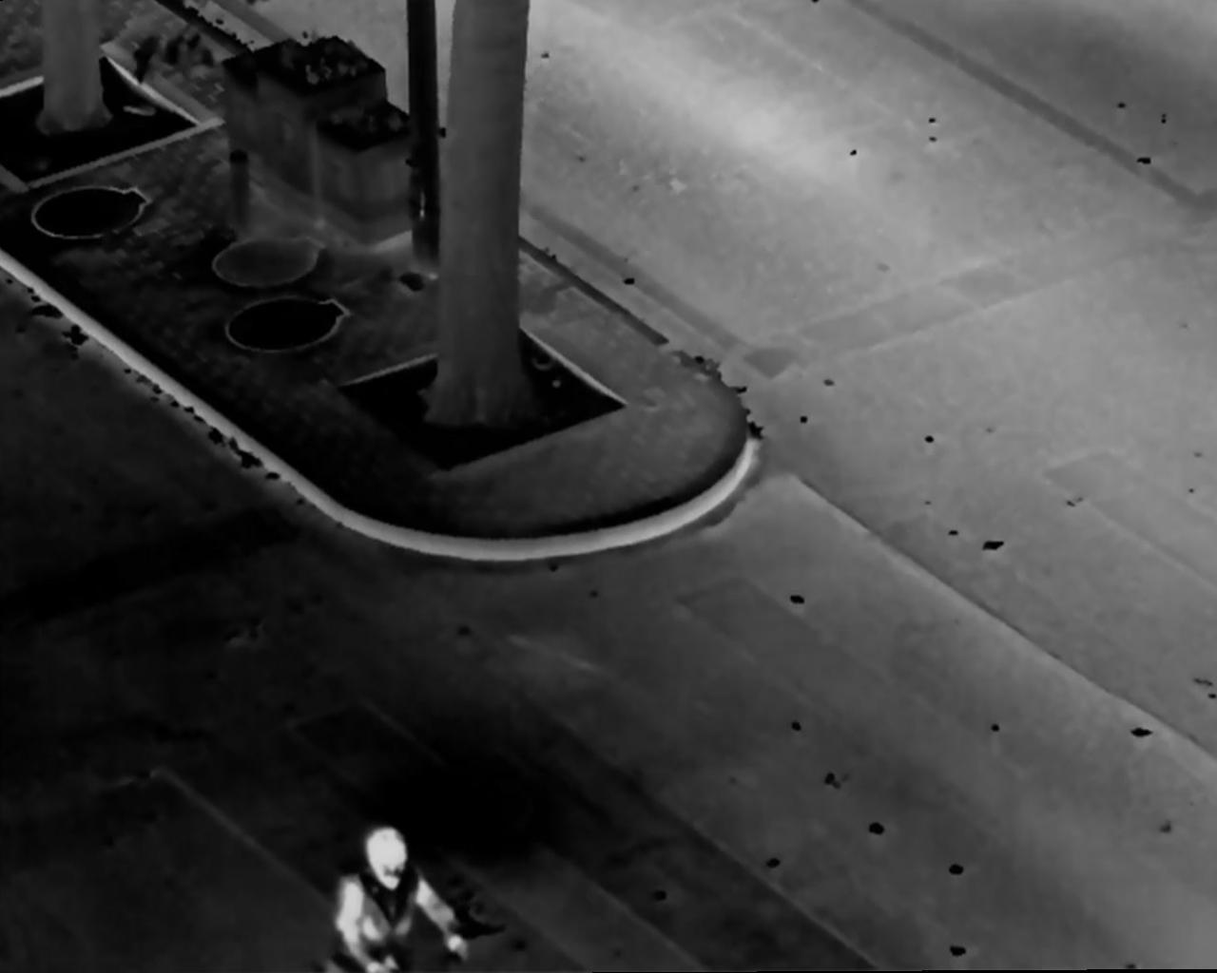person: (325, 818, 453, 973)
